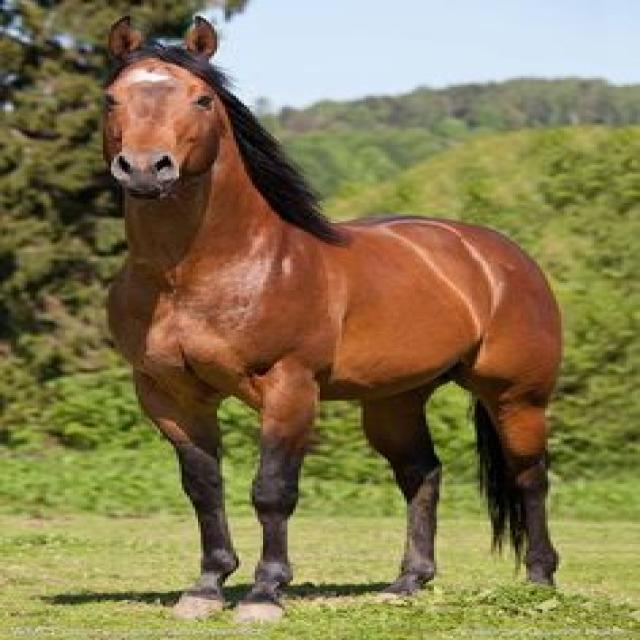Herbivorous: (100, 18, 564, 625)
